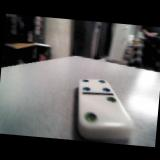domino: (77, 78, 132, 139)
